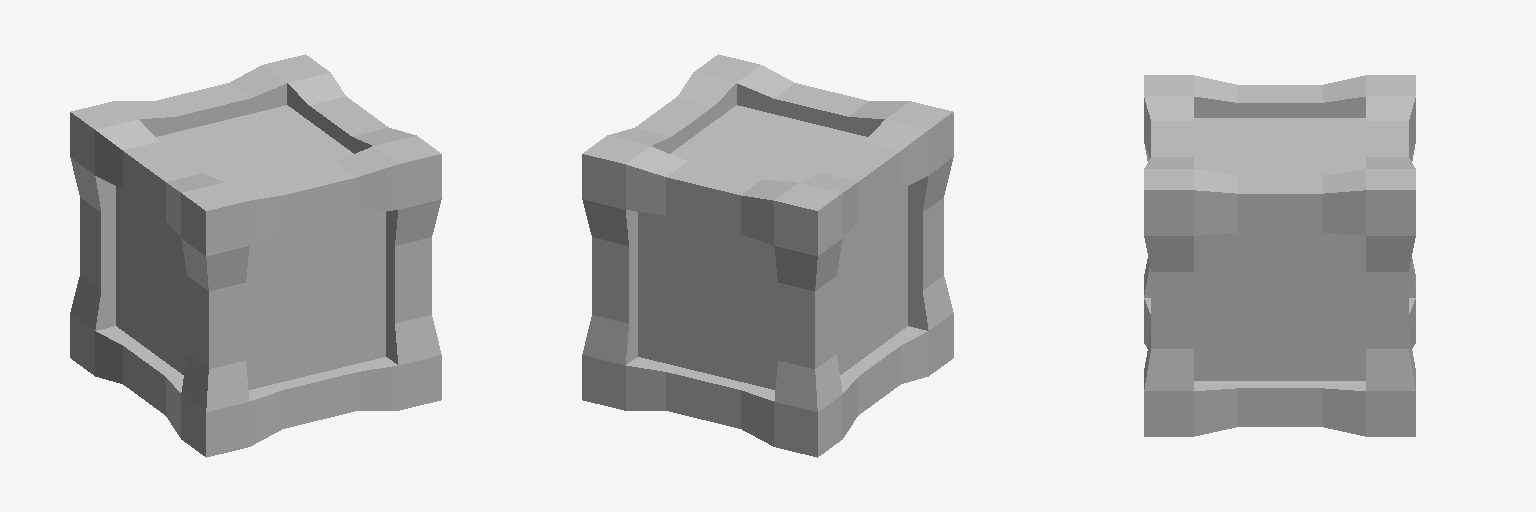
The model's file is Crate.OBJ.
3 views of the same model, side by side, from view 1: azimuth 30°, elevation 25°; view 2: azimuth 150°, elevation 25°; view 3: azimuth 270°, elevation 25° (orthographic).
Visible parts, largest first — view 1: Group10618, Group27331; view 2: Group10618, Group27331; view 3: Group10618, Group27331.
Part boxes in pixels (x1,y1,x2,y2): Group10618: (70, 65, 441, 446); Group27331: (70, 54, 441, 457); Group10618: (582, 65, 953, 446); Group27331: (582, 54, 953, 457); Group10618: (1144, 75, 1415, 436); Group27331: (1144, 75, 1415, 436).
Size of the model in its own units: 58.39 by 58.39 by 58.39.